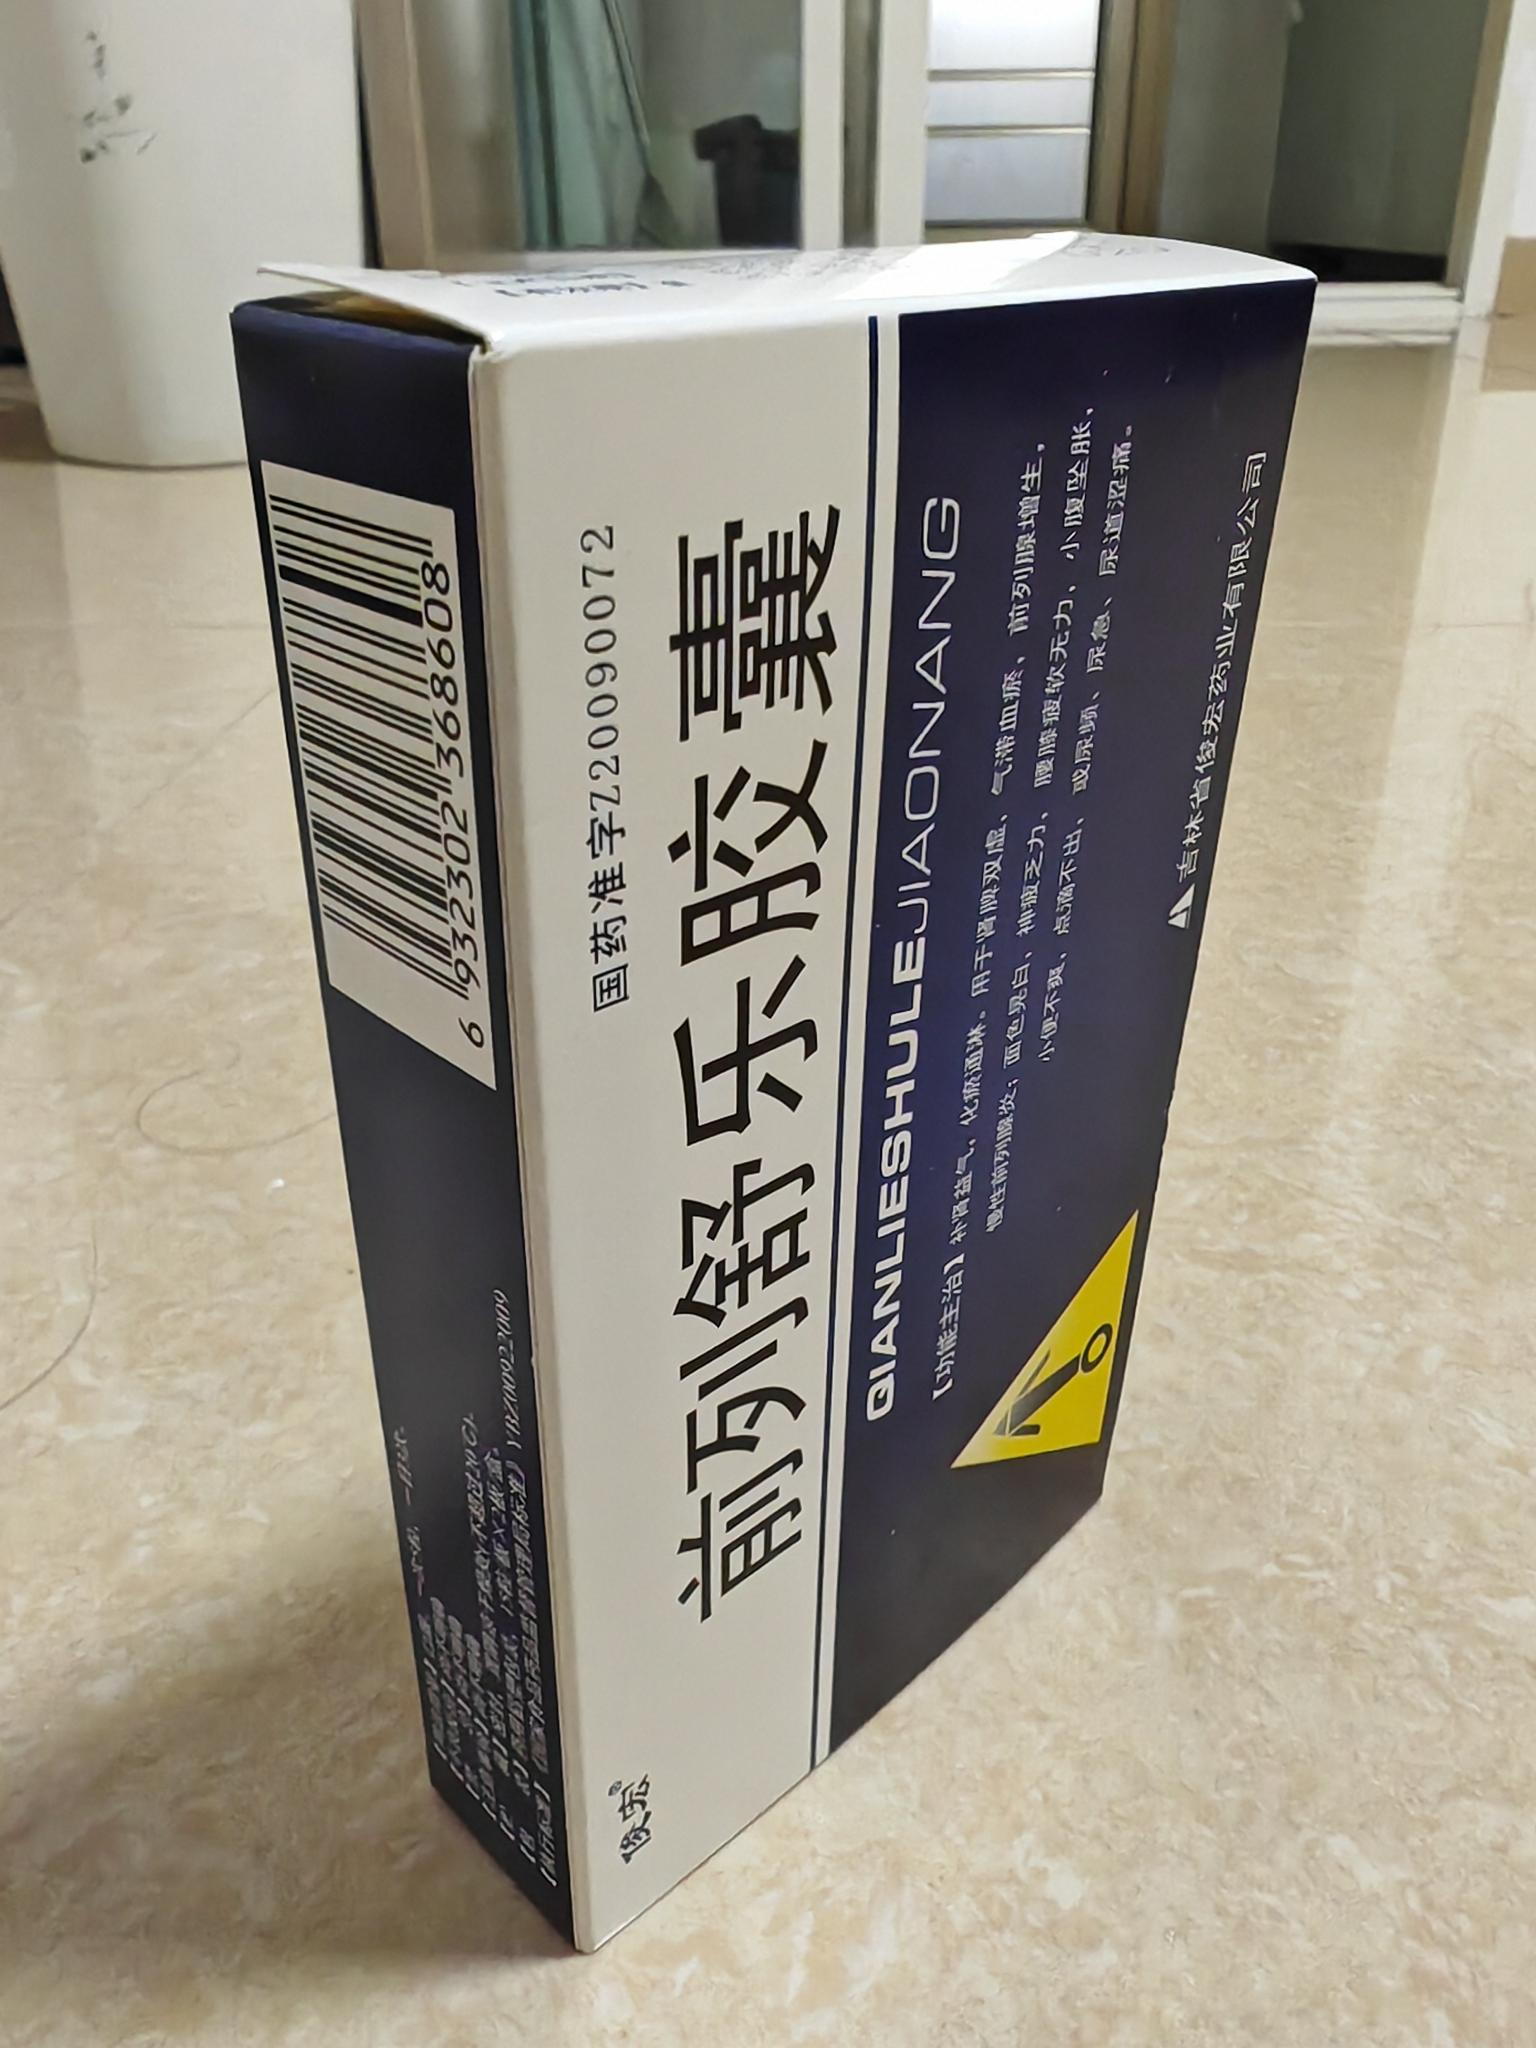Medicine2: (208, 208, 1334, 1967)
